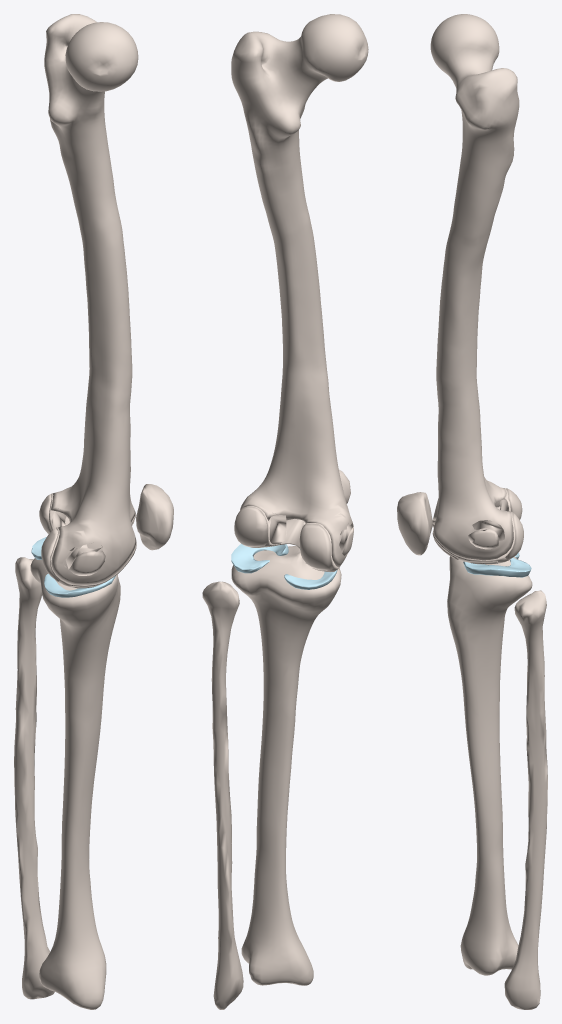
The model's file is vh_f_knee_l-80.glb.
3 views of the same model, side by side, from view 1: azimuth 90°, elevation 25°; view 2: azimuth 150°, elevation 25°; view 3: azimuth 270°, elevation 25° (orthographic). The views are drawn at different scales.
Parts seen in each view (by area): view 1: VH_F_femur_L, VH_F_tibia_L, VH_F_fibula_L, VH_F_patella_L, VH_F_meniscus_L, VH_F_medial_perichondular_surface_L, VH_F_articular_cartilage_of_knee_L, VH_F_medial_condyle_of_left_femur_inf; view 2: VH_F_femur_L, VH_F_tibia_L, VH_F_fibula_L, VH_F_meniscus_L, VH_F_medial_condyle_of_left_femur_inf, VH_F_lateral_condyle_of_femur_inf_L, VH_F_articular_cartilage_of_knee_L, VH_F_anterior_cruciate_enthesis_L; view 3: VH_F_femur_L, VH_F_tibia_L, VH_F_fibula_L, VH_F_patella_L, VH_F_meniscus_L, VH_F_lateral_perichondular_surface_L, VH_F_articular_cartilage_of_knee_L, VH_F_lateral_condyle_of_femur_inf_L.
Part boxes in pixels (x1=…): VH_F_femur_L: x1=44, y1=14, x2=138, y2=584; VH_F_tibia_L: x1=30, y1=558, x2=120, y2=1009; VH_F_fibula_L: x1=14, y1=557, x2=54, y2=999; VH_F_patella_L: x1=136, y1=484, x2=173, y2=550; VH_F_meniscus_L: x1=31, y1=537, x2=115, y2=597; VH_F_medial_perichondular_surface_L: x1=69, y1=550, x2=105, y2=575; VH_F_articular_cartilage_of_knee_L: x1=49, y1=493, x2=136, y2=586; VH_F_medial_condyle_of_left_femur_inf: x1=41, y1=528, x2=59, y2=581; VH_F_femur_L: x1=231, y1=14, x2=368, y2=567; VH_F_tibia_L: x1=231, y1=546, x2=341, y2=985; VH_F_fibula_L: x1=202, y1=581, x2=243, y2=1009; VH_F_meniscus_L: x1=231, y1=543, x2=337, y2=589; VH_F_medial_condyle_of_left_femur_inf: x1=299, y1=524, x2=333, y2=570; VH_F_lateral_condyle_of_femur_inf_L: x1=234, y1=506, x2=268, y2=547; VH_F_articular_cartilage_of_knee_L: x1=241, y1=506, x2=339, y2=572; VH_F_anterior_cruciate_enthesis_L: x1=268, y1=515, x2=286, y2=544; VH_F_femur_L: x1=430, y1=14, x2=519, y2=560; VH_F_tibia_L: x1=447, y1=556, x2=532, y2=975; VH_F_fibula_L: x1=504, y1=590, x2=547, y2=1009; VH_F_patella_L: x1=397, y1=492, x2=432, y2=555; VH_F_meniscus_L: x1=463, y1=552, x2=531, y2=577; VH_F_lateral_perichondular_surface_L: x1=468, y1=527, x2=498, y2=549; VH_F_articular_cartilage_of_knee_L: x1=432, y1=488, x2=515, y2=563; VH_F_lateral_condyle_of_femur_inf_L: x1=505, y1=512, x2=523, y2=559.
Size of the model in its own units: 0.1016 by 0.7718 by 0.1105.
